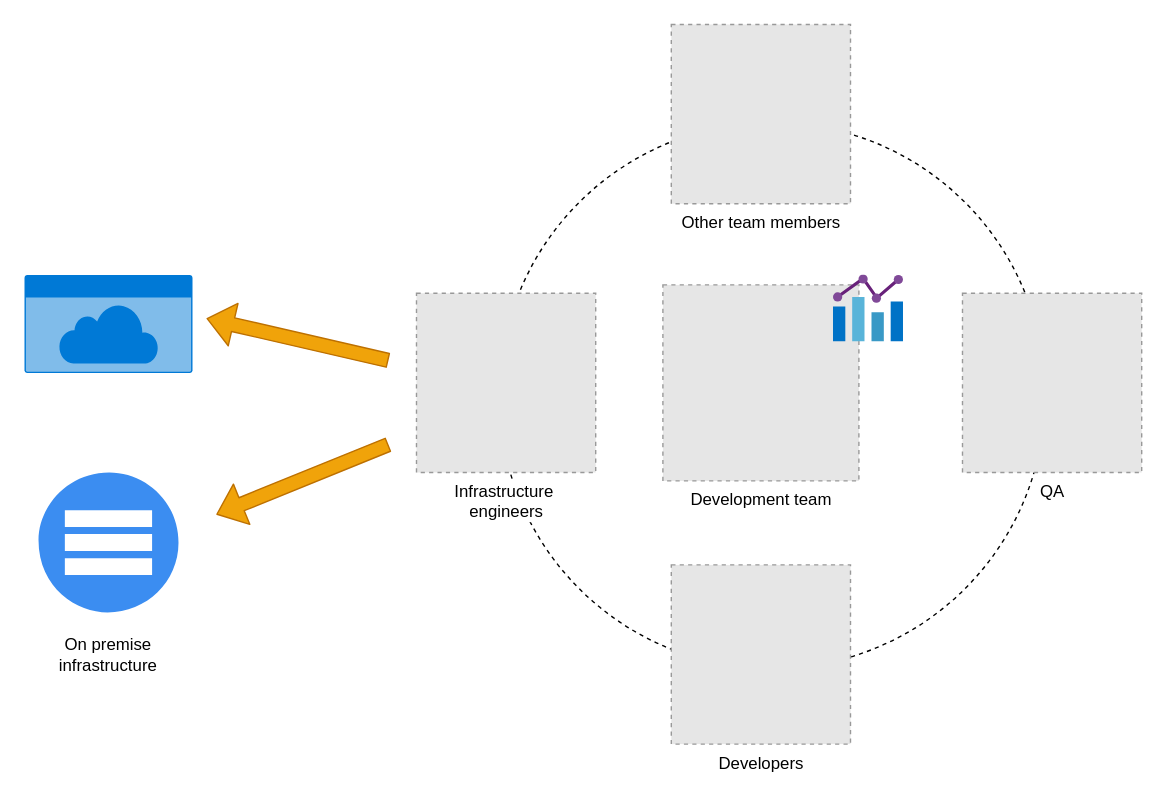
Image size: 1166x798. Some labels were removed from this diagram. Grey dashed boxes stand in for pictures. The shapes that lost their labels are listed below. From the top down, each one's box as (x1, y1, x2, y2) in pixels, then its label:
(24, 274, 192, 372): Cloud
(833, 274, 903, 342): Internal processes
